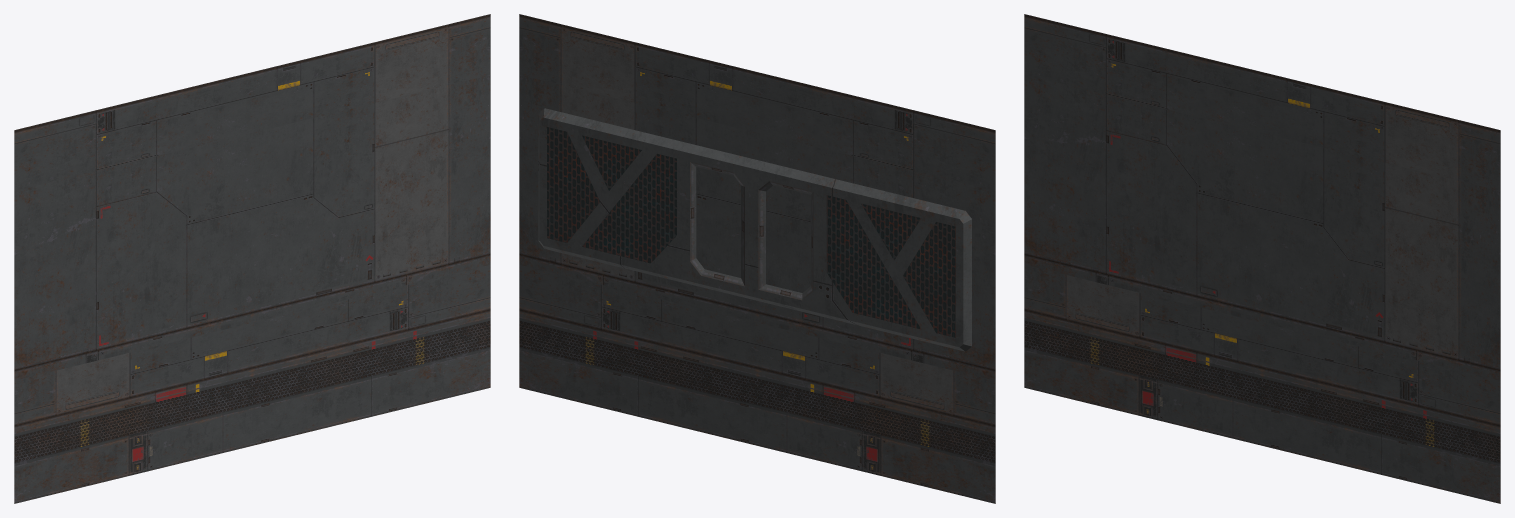
The model's file is ARC0910150.fbx.
3 renders of one model, left to right at view 1: azimuth 30°, elevation 25°; view 2: azimuth 150°, elevation 25°; view 3: azimuth 330°, elevation 25°, orthographic.
Parts seen in each view (by area): view 1: smARC0910150; view 2: smARC0910150; view 3: smARC0910150.
Boxes of the visible parts, x1,y1,x2,y2 form: smARC0910150: [14, 14, 490, 503]; smARC0910150: [519, 14, 995, 503]; smARC0910150: [1024, 14, 1500, 503].
Size of the model in its own units: 400 by 300 by 8.53.
1 material, 1 textured.
